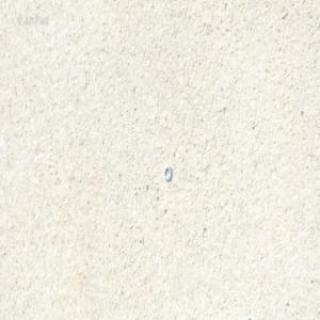Washertrack_idkeyframe: (164, 164, 172, 180)
